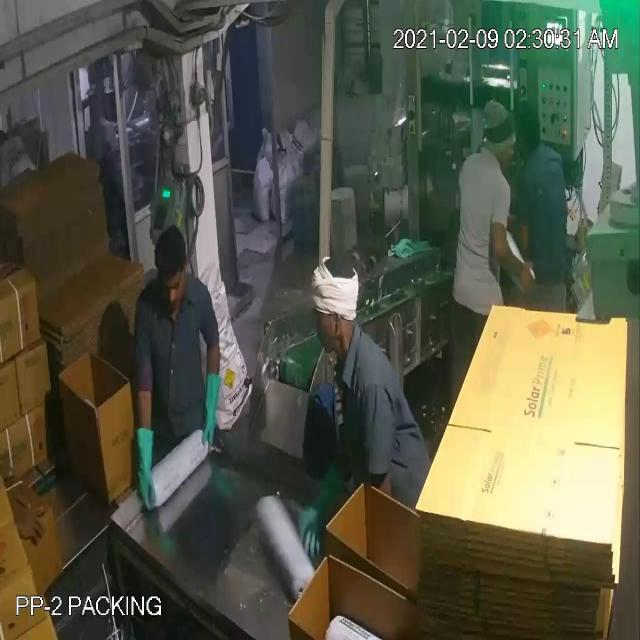Gloves: (42, 94, 518, 505)
